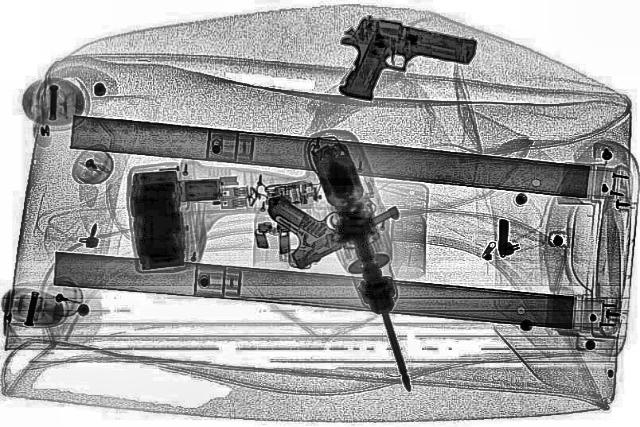Gun: (228, 164, 408, 270), (311, 12, 484, 114)
